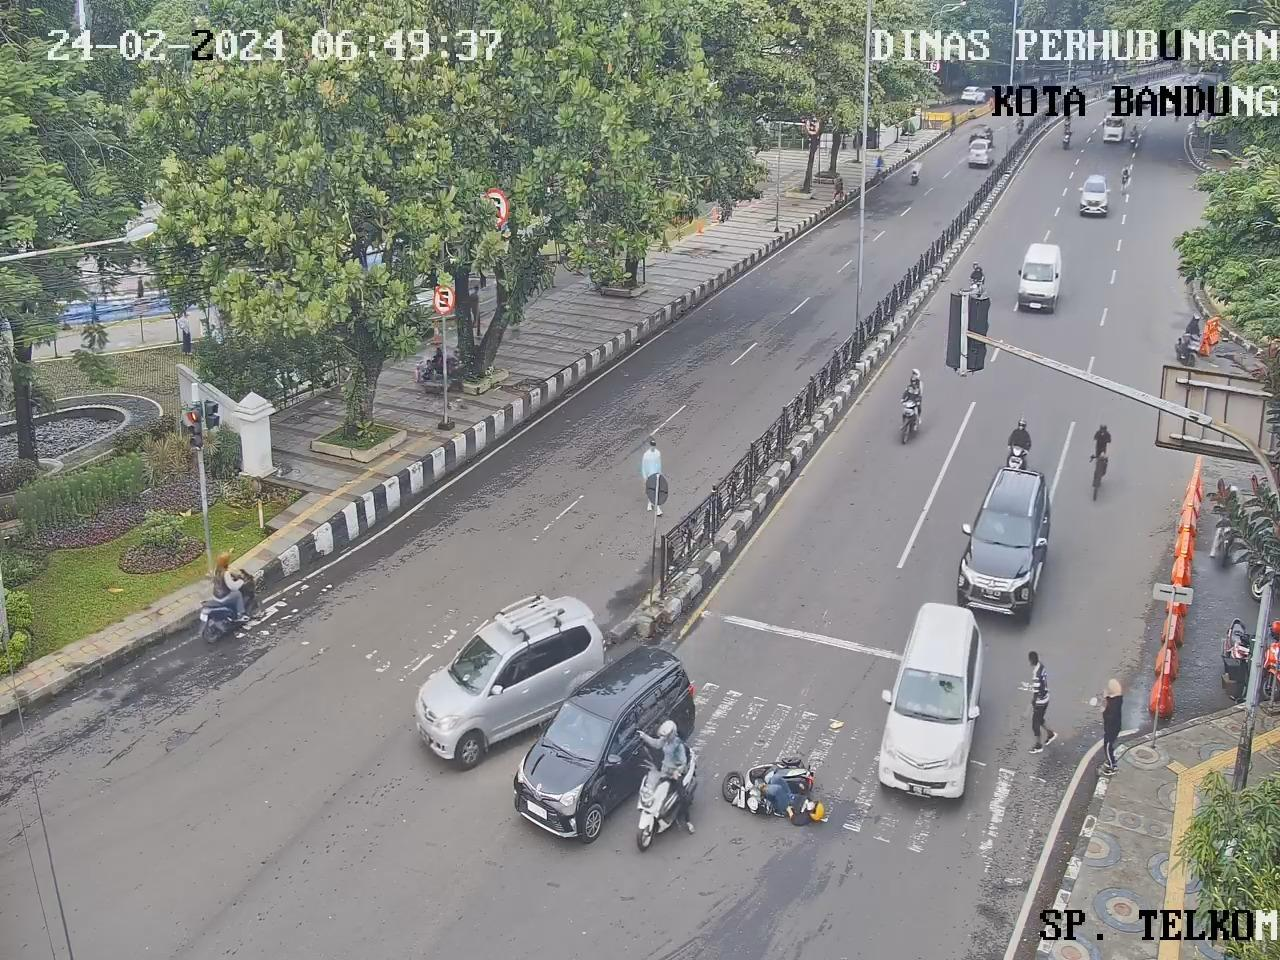accident: (756, 774, 828, 827)
